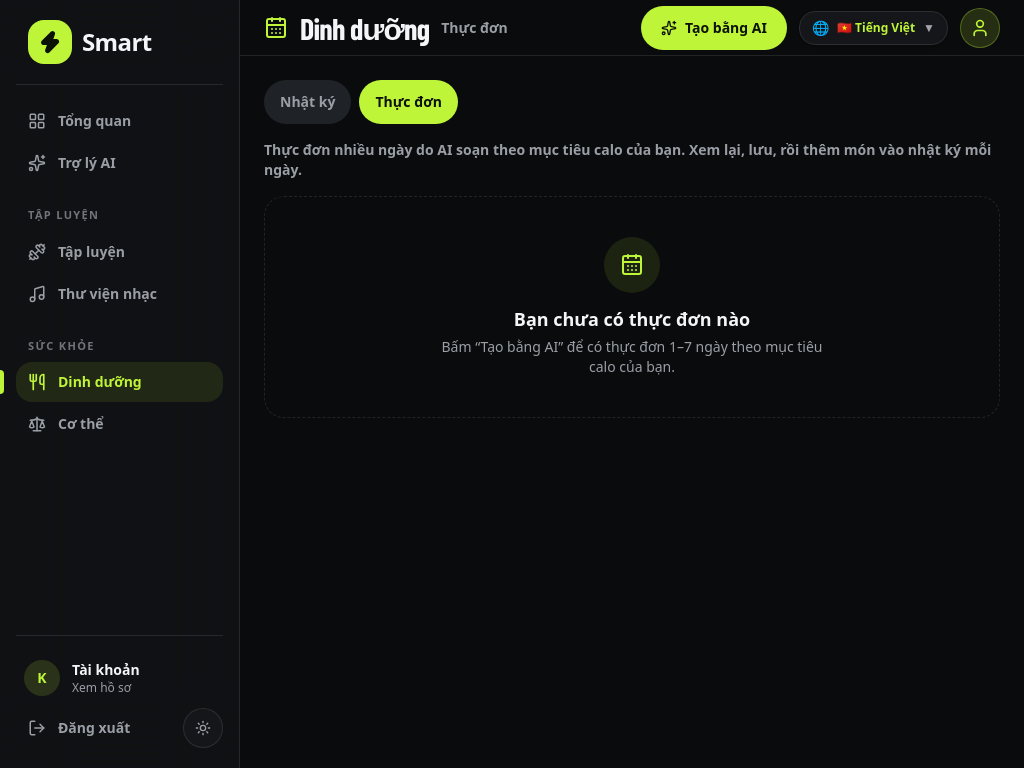
Test: Meal plans: AI draft › without a complete profile the AI form is replaced by a hint
Click the button "Tạo bằng AI" at (714, 28), box [641,6,787,50]
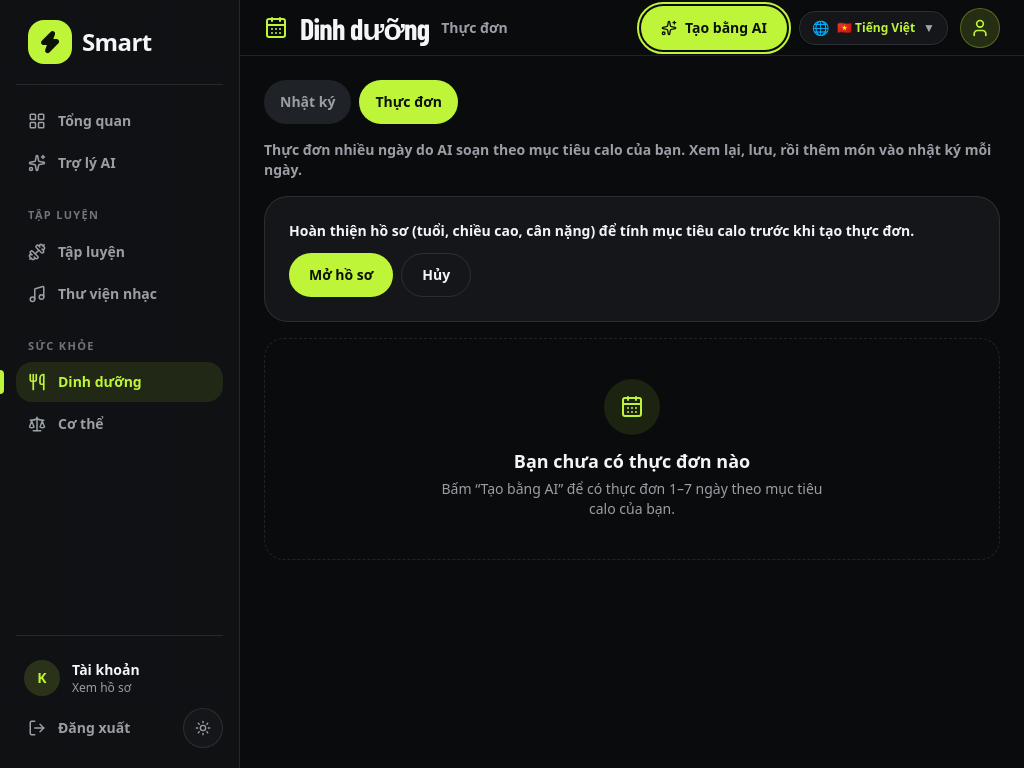
Now the text "Hoàn thiện hồ sơ" is shown, box [289,221,914,240]
